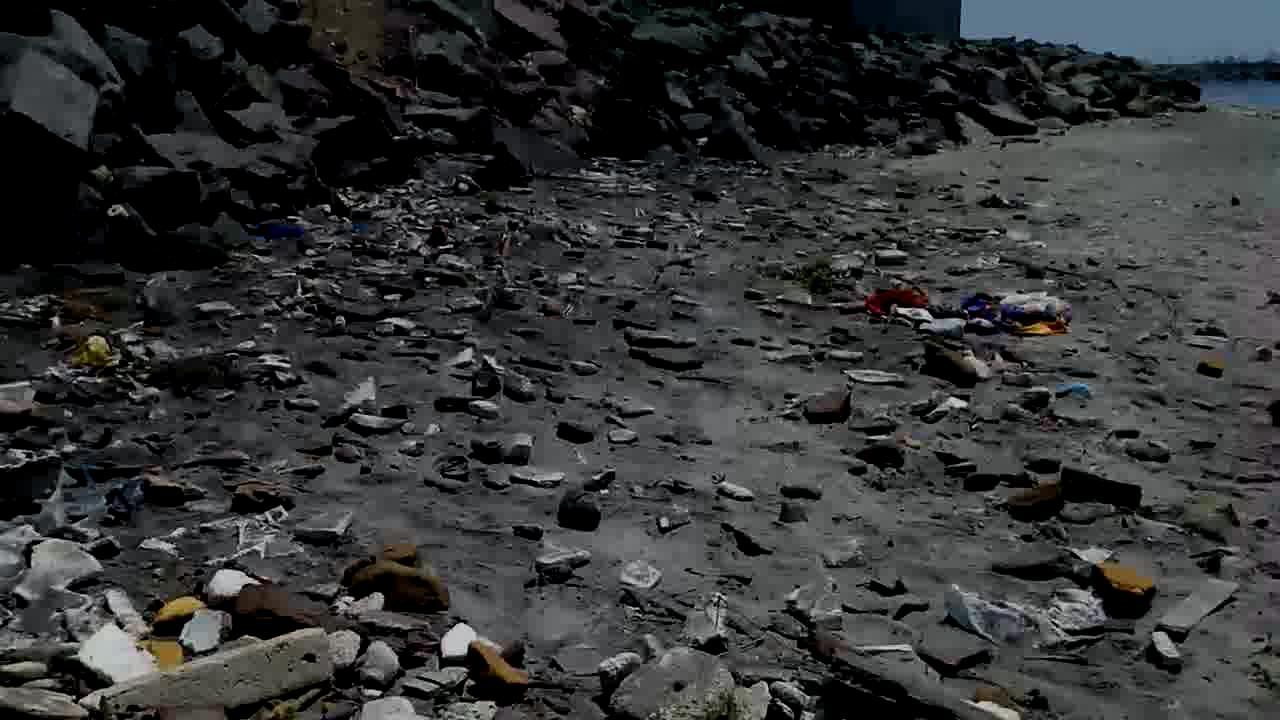large collection of objects: (84, 632, 334, 718), (603, 653, 738, 719), (78, 624, 162, 688), (1, 447, 67, 505), (1001, 481, 1069, 521), (557, 481, 598, 530), (791, 392, 853, 422), (622, 348, 708, 369)
obj: (825, 648, 1002, 719), (866, 286, 1073, 338), (350, 543, 450, 613), (142, 354, 245, 393), (466, 640, 528, 700), (1092, 563, 1159, 610), (784, 264, 851, 296), (1196, 356, 1226, 375), (1000, 715, 1003, 719)
sand/background: (1, 0, 1279, 262)
